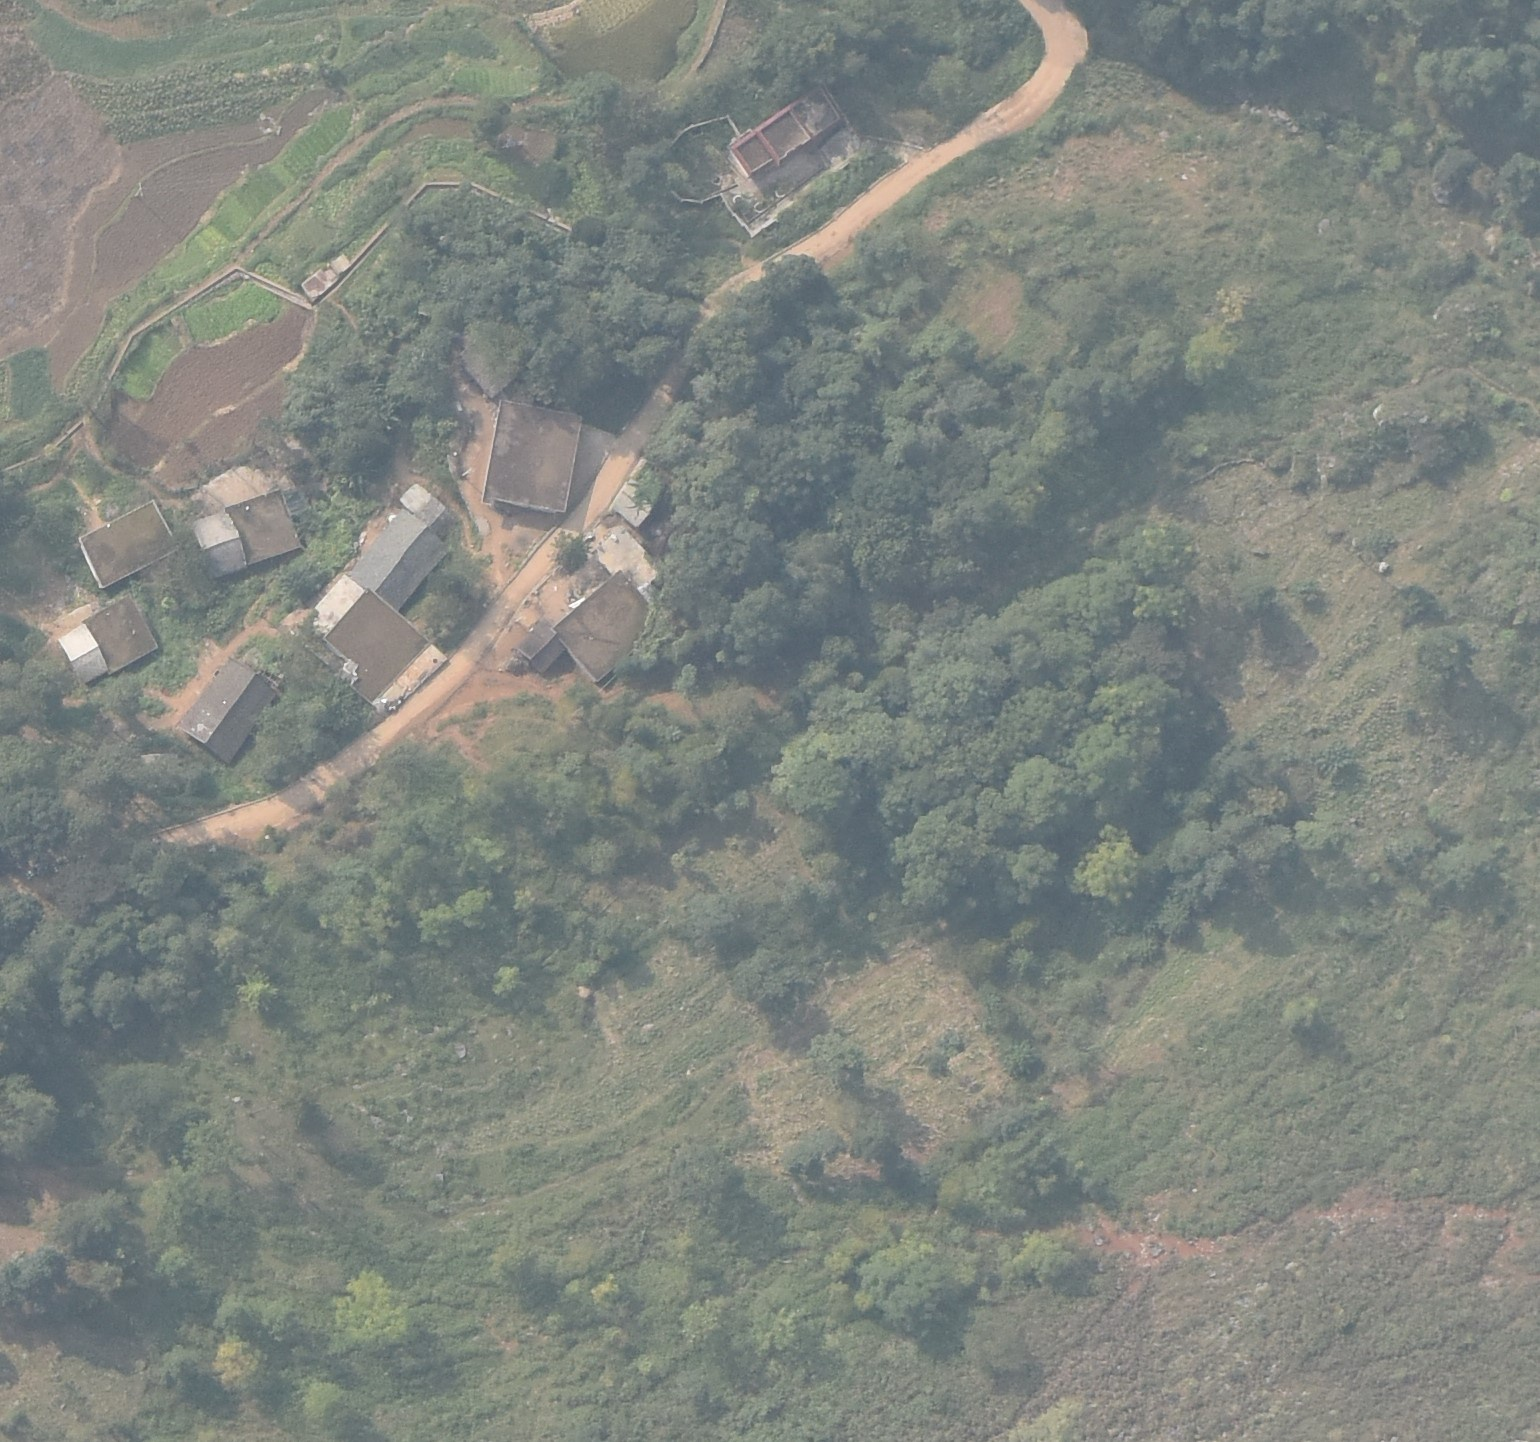building: (325, 585, 432, 703), (552, 570, 662, 684), (481, 399, 582, 515), (176, 658, 281, 764), (728, 86, 842, 174), (351, 516, 450, 613), (77, 499, 179, 589), (80, 595, 158, 672), (226, 488, 301, 566), (612, 457, 666, 527), (191, 511, 245, 579), (59, 624, 109, 685), (518, 619, 566, 670), (399, 482, 450, 525)
